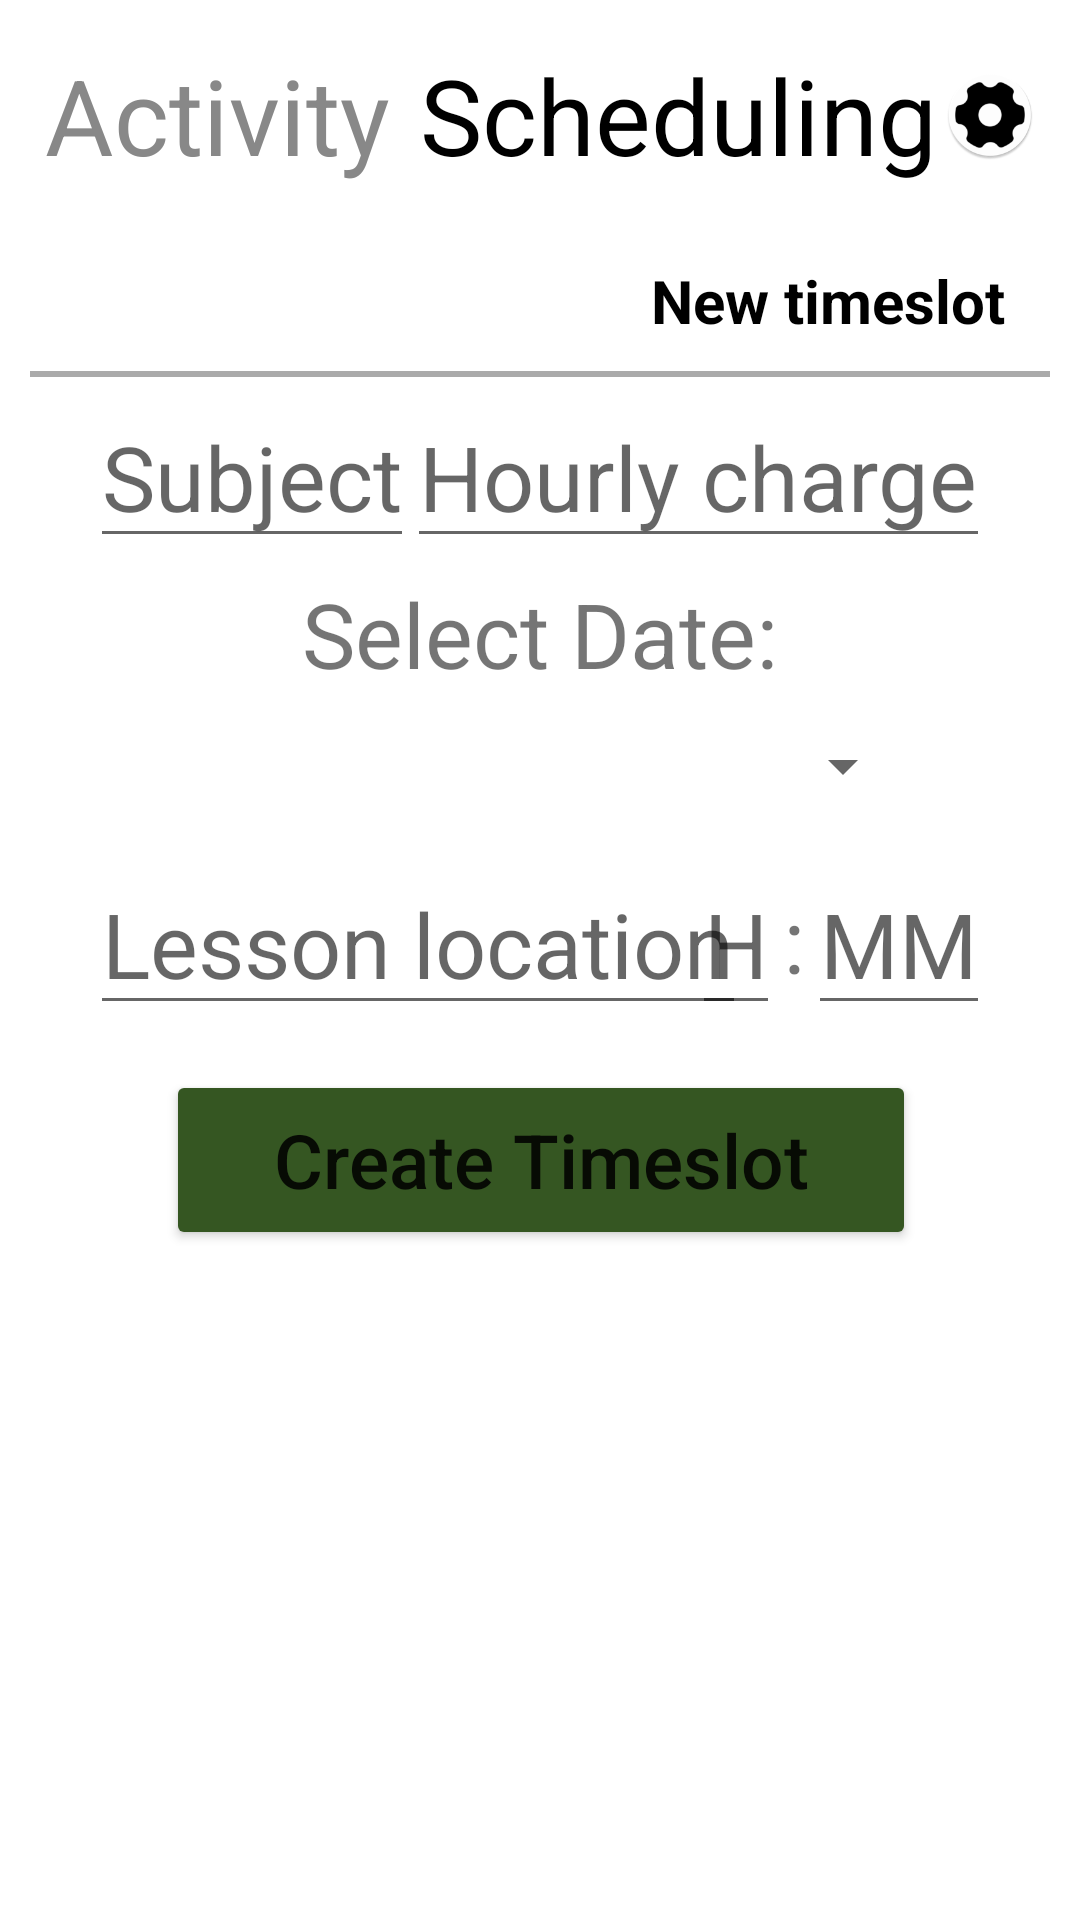

Named icons in this screenshot (1080*1920) and their bounding boxes, (x1, y1, x2, y2):
settings round: (950, 82, 1032, 158)
